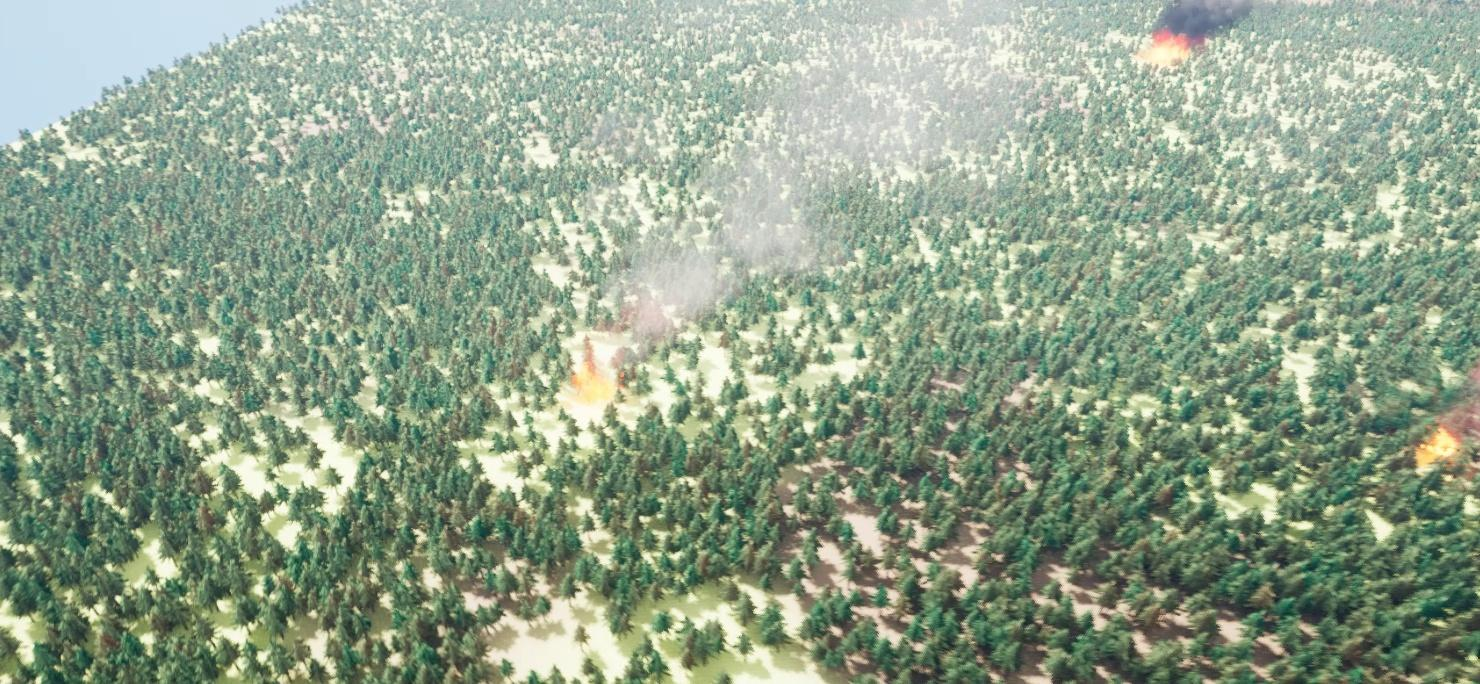fire: (1130, 33, 1203, 62), (1421, 420, 1459, 467), (566, 369, 615, 398)
smoke: (587, 0, 1035, 357), (1153, 0, 1254, 33)
